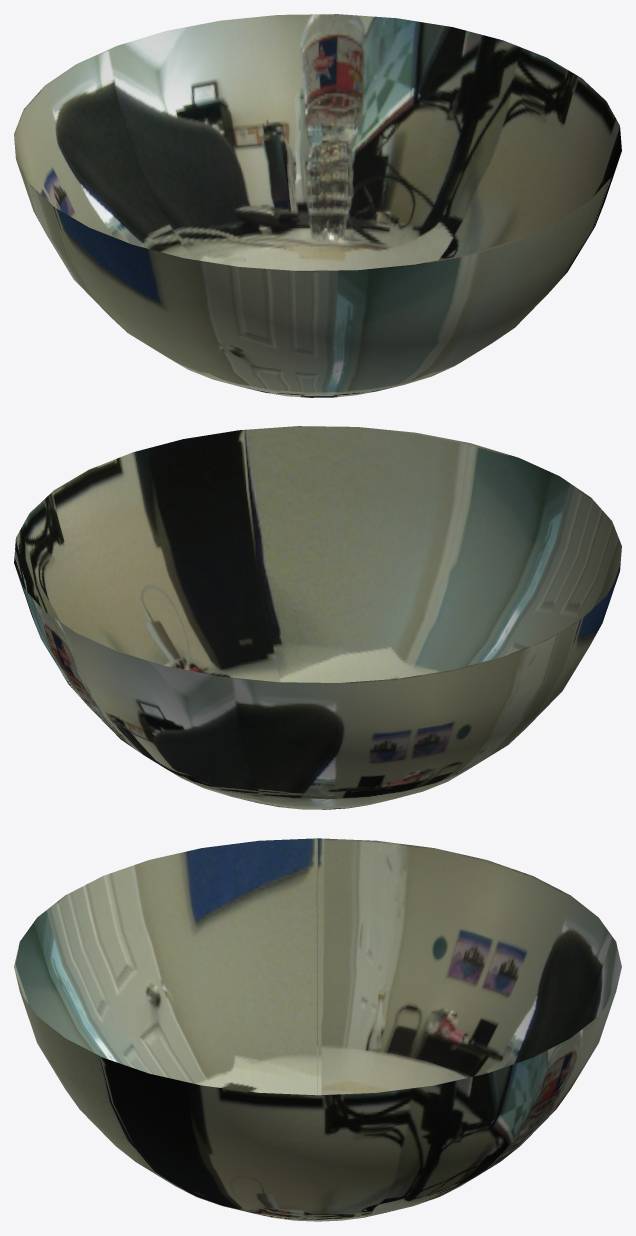
File: srv_bowl.obj
3 renders of one model, top to bottom at view 1: azimuth 30°, elevation 25°; view 2: azimuth 150°, elevation 25°; view 3: azimuth 270°, elevation 25°, orthographic.
Parts seen in each view (by area): view 1: Sphere; view 2: Sphere; view 3: Sphere.
Part boxes in pixels (bbox=[...]): Sphere: bbox=[14, 14, 621, 397]; Sphere: bbox=[14, 426, 621, 809]; Sphere: bbox=[14, 838, 621, 1221].
Size of the model in its own units: 3.99 by 1.64 by 3.99.
